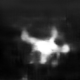plane: (19, 25, 74, 66)
